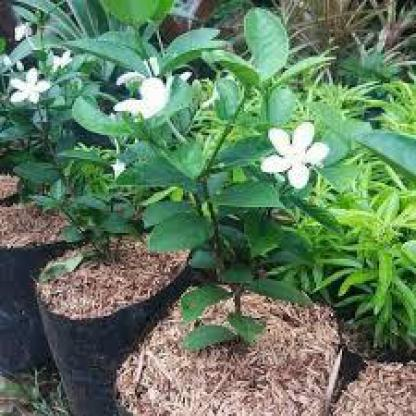Melati: (260, 107, 341, 195), (110, 46, 193, 129), (5, 18, 86, 101)
